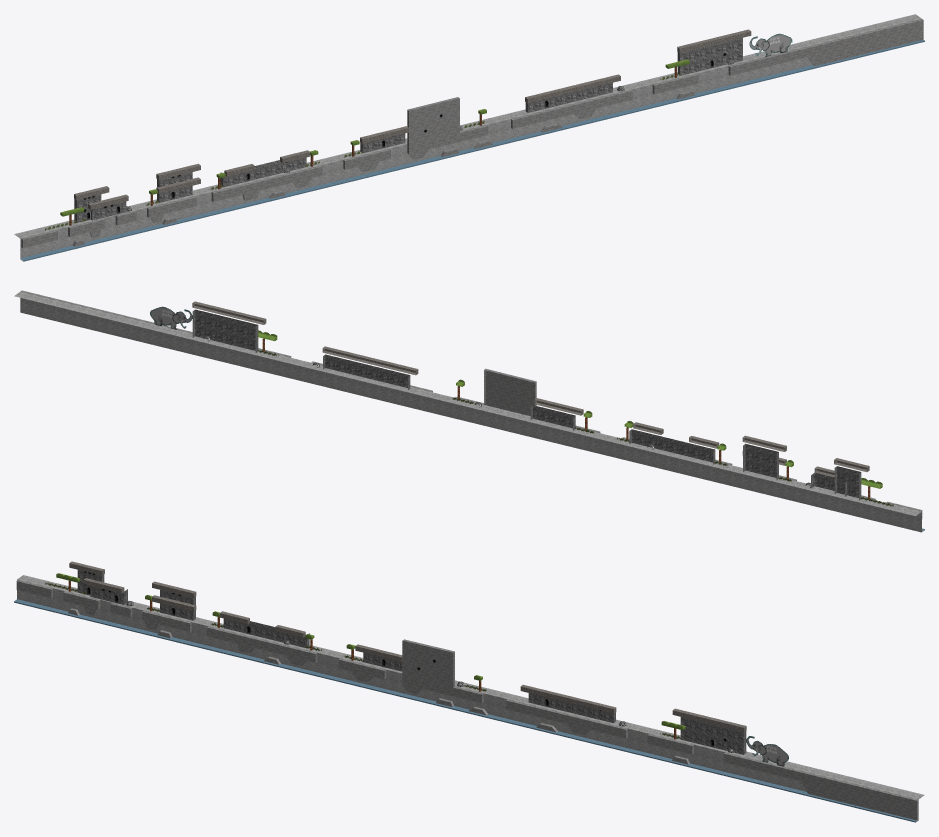
The model's file is bedrock.FBX.
3 views of the same model, one above another, from view 1: azimuth 30°, elevation 25°; view 2: azimuth 150°, elevation 25°; view 3: azimuth 330°, elevation 25° (orthographic).
Visible parts, largest first — view 1: platforms, sweer, houses, water, house_roof, elephant; view 2: sweer, houses, house_roof, platforms, elephant, palm_leaves; view 3: platforms, sweer, houses, water, house_roof, elephant.
Boxes of the visible parts, x1,y1,x2,y2 form: platforms: (21,18,923,248); sweer: (14,14,921,261); houses: (74,38,742,222); water: (20,39,924,261); house_roof: (74,29,751,209); elephant: (749,33,792,56); sweer: (14,291,924,532); houses: (192,309,861,500); house_roof: (192,301,869,477); platforms: (20,290,922,518); elephant: (150,306,192,329); palm_leaves: (258,330,882,488); platforms: (16,580,918,821); sweer: (17,575,924,822); houses: (77,570,746,754); water: (14,599,916,822); house_roof: (69,561,746,731); elephant: (746,736,788,766).
Bounding box in the file's own units: 4200 × 75 × 248.
